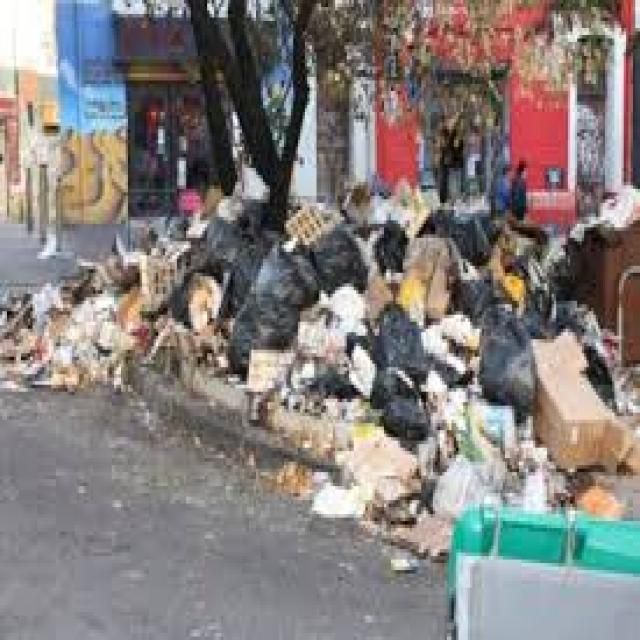Trashbag: (483, 328, 538, 402), (262, 254, 315, 318), (379, 317, 424, 377), (425, 212, 486, 256), (316, 235, 366, 284), (205, 220, 253, 266)
